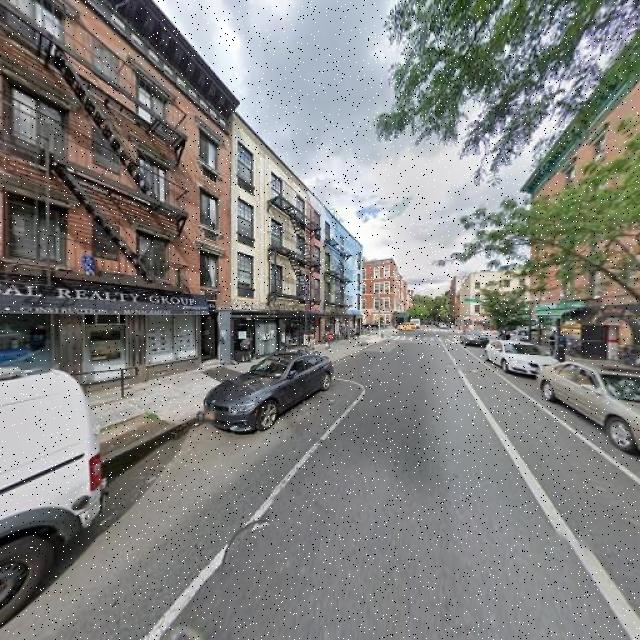Building: (1, 1, 232, 412), (534, 42, 640, 367), (235, 108, 360, 362)
